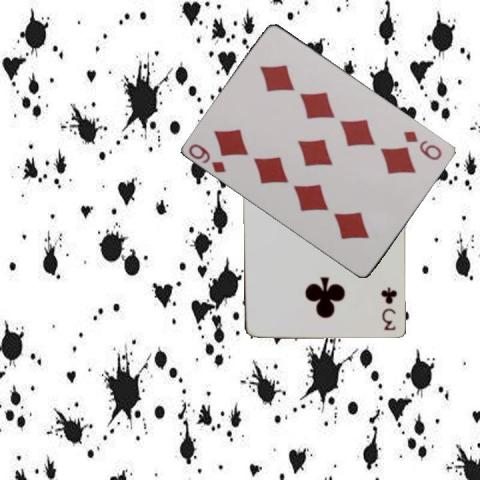3c: (379, 284, 398, 331)
9d: (401, 127, 444, 162), (185, 141, 228, 174)
